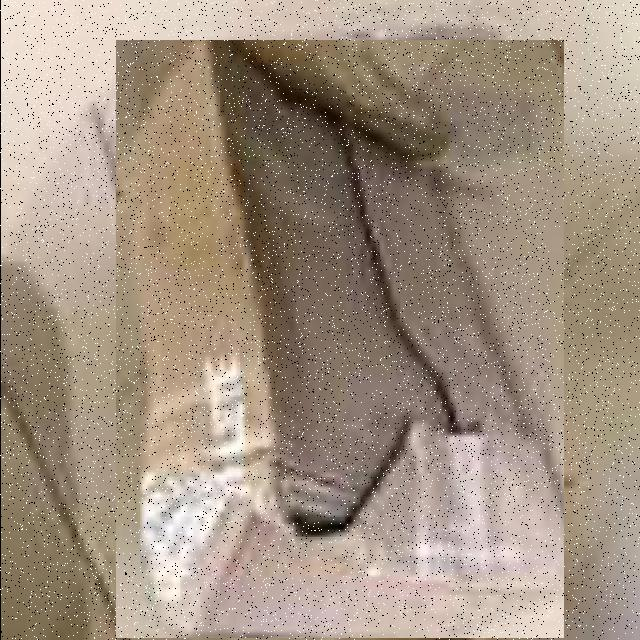defect: (115, 40, 563, 638)
